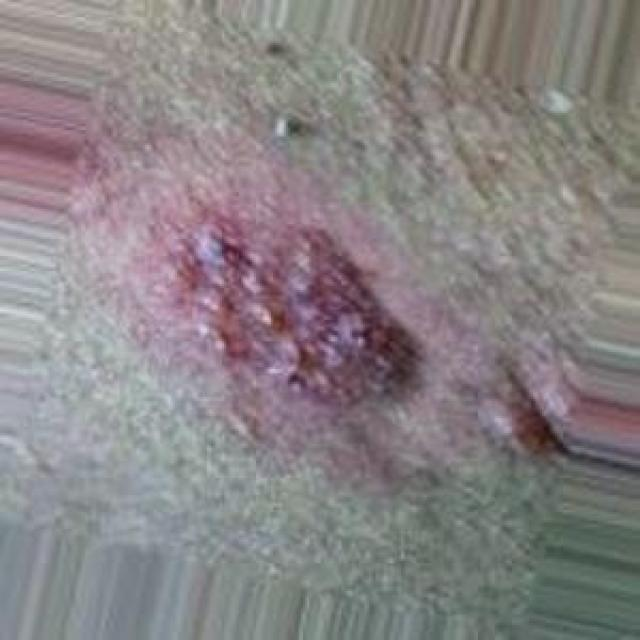Shingles: (143, 199, 408, 413)
